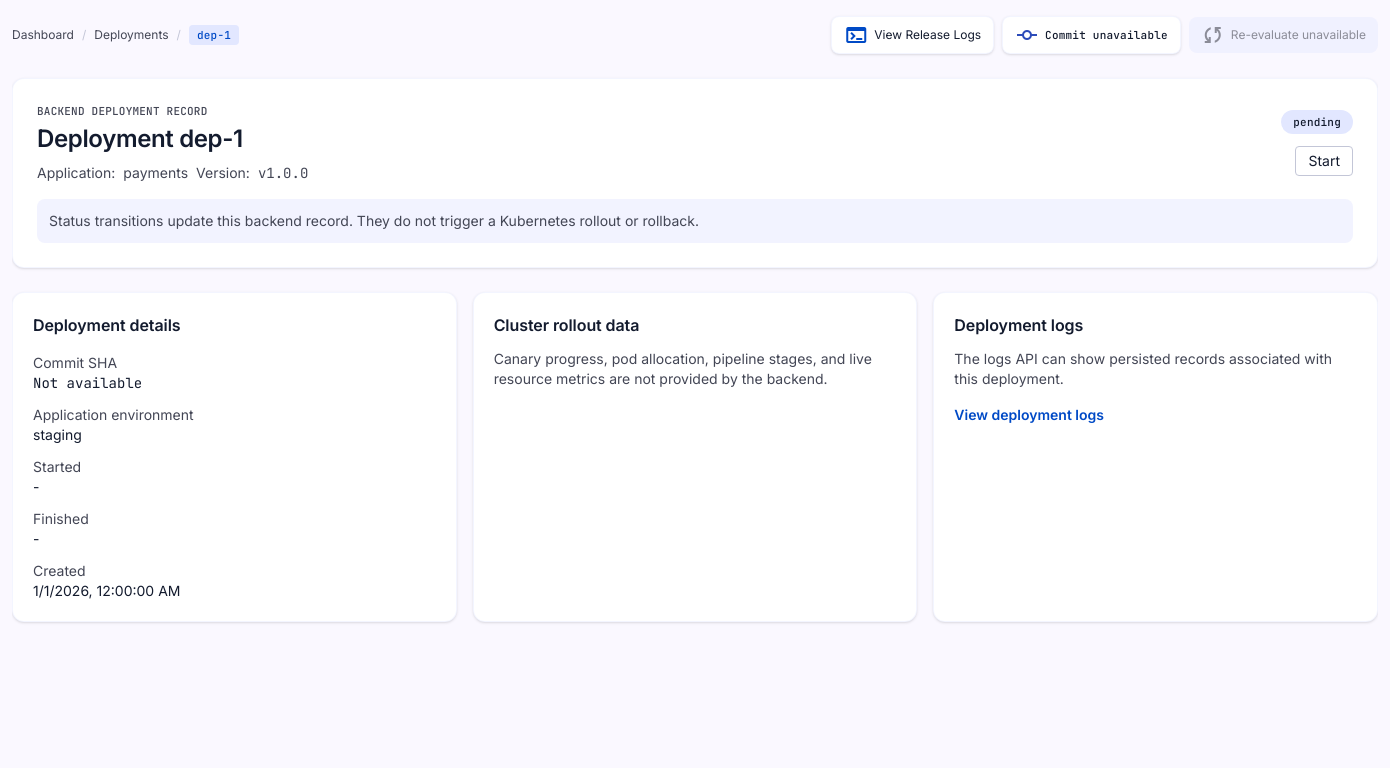
Test: DeploymentDetailPage › shows the new running status from the successful transition response
The image size is (1390, 768).
Step 1. Click the button "Start" → (1324, 161), box [1295,146,1353,176]
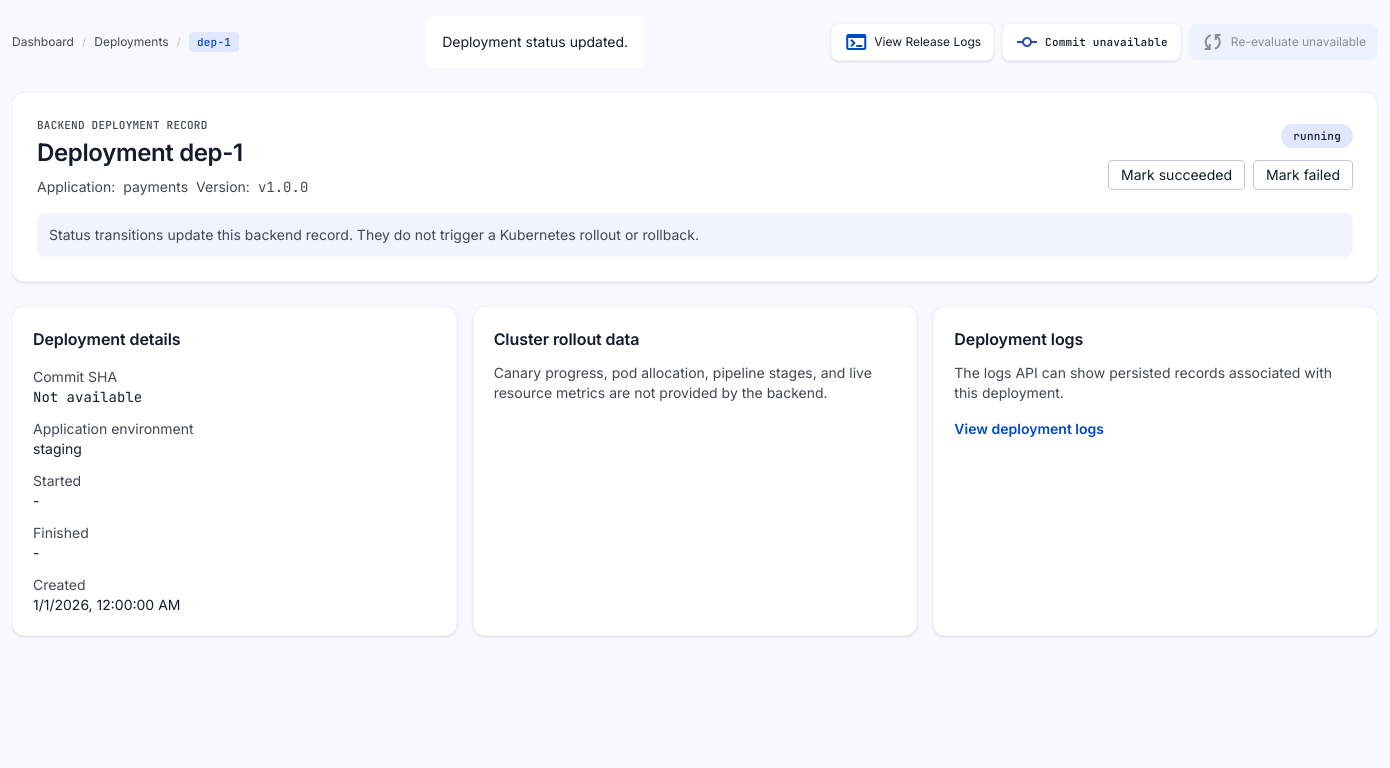
Expected: the text "running" is shown, [1281,124,1353,148]
